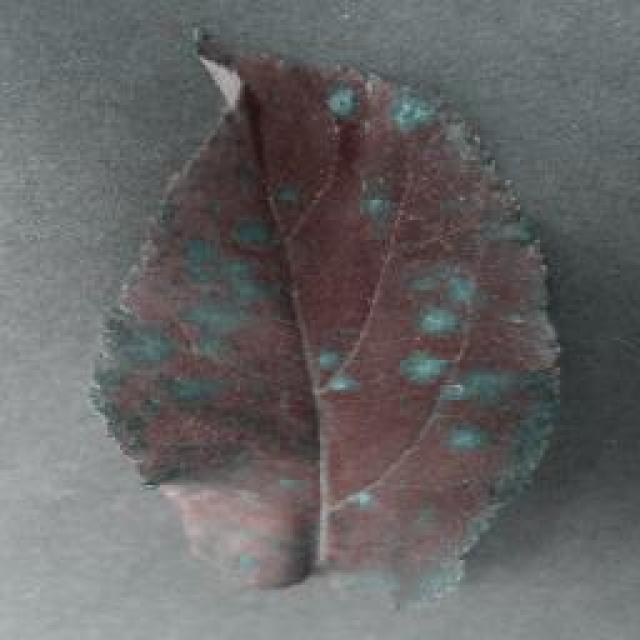apple healthy: (87, 28, 565, 602)
